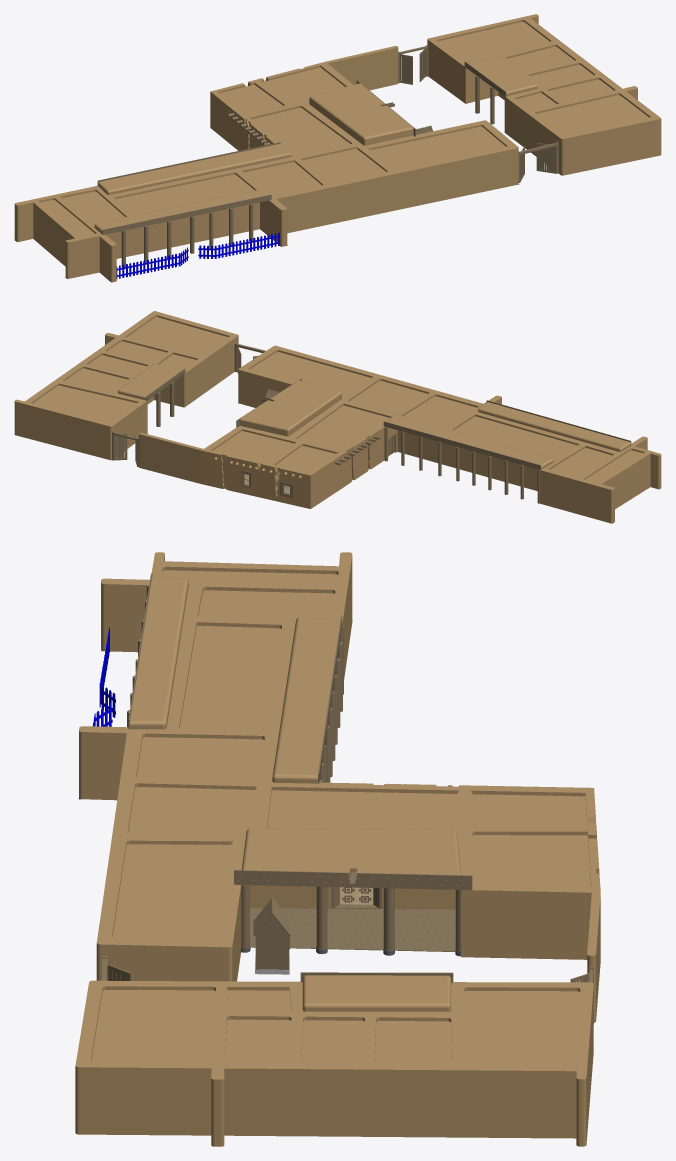
Rendered from Romero.glb.
The picture shows the model from 3 angles, top to bottom: view 1: azimuth 30°, elevation 25°; view 2: azimuth 150°, elevation 25°; view 3: azimuth 270°, elevation 25°; orthographic projection. The views are drawn at different scales.
Bounding box in the file's own units: 49.16 × 3.54 × 20.71.
